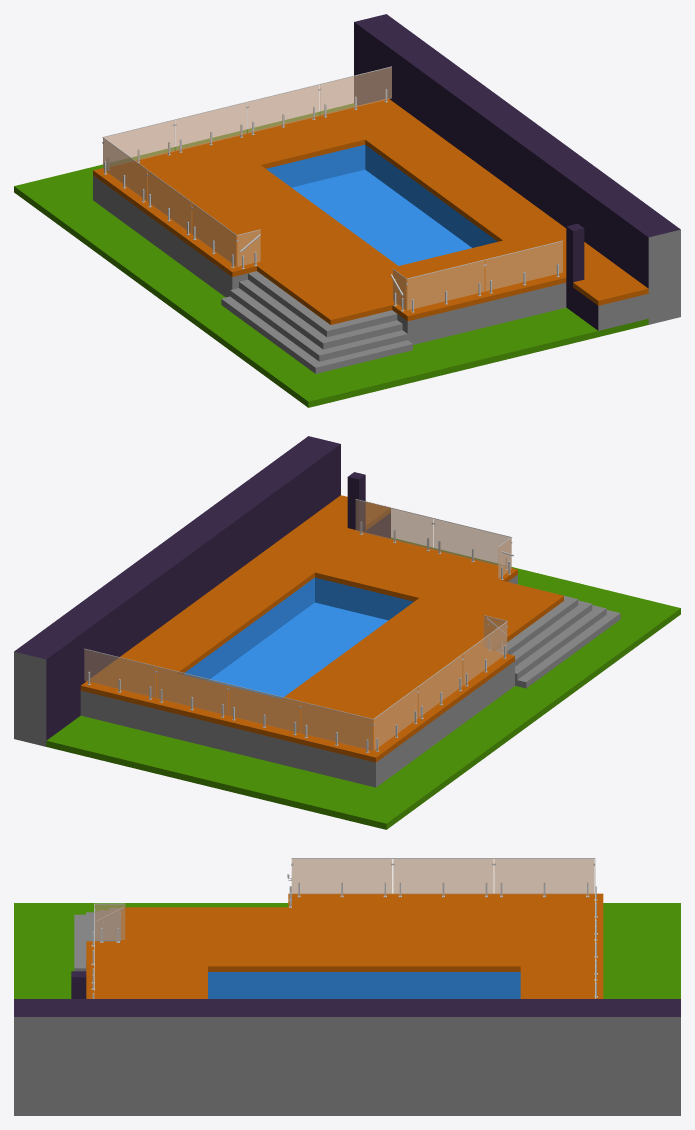
Rendered from Ограждение террасы.obj.
3 views of the same model, one above another, from view 1: azimuth 30°, elevation 25°; view 2: azimuth 150°, elevation 25°; view 3: azimuth 270°, elevation 25° (orthographic). The views are drawn at different scales.
Size of the model in its own units: 12.48 by 2.8 by 17.08.
